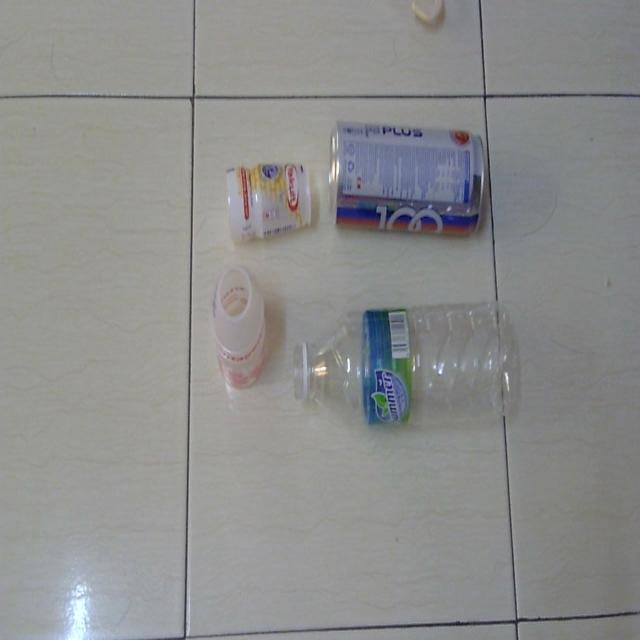metal_laydown_0rotation: (324, 117, 488, 234)
plastic_laydown_0rotation: (286, 292, 528, 438), (221, 150, 316, 244)
plastic_standrotation: (206, 256, 272, 394)
